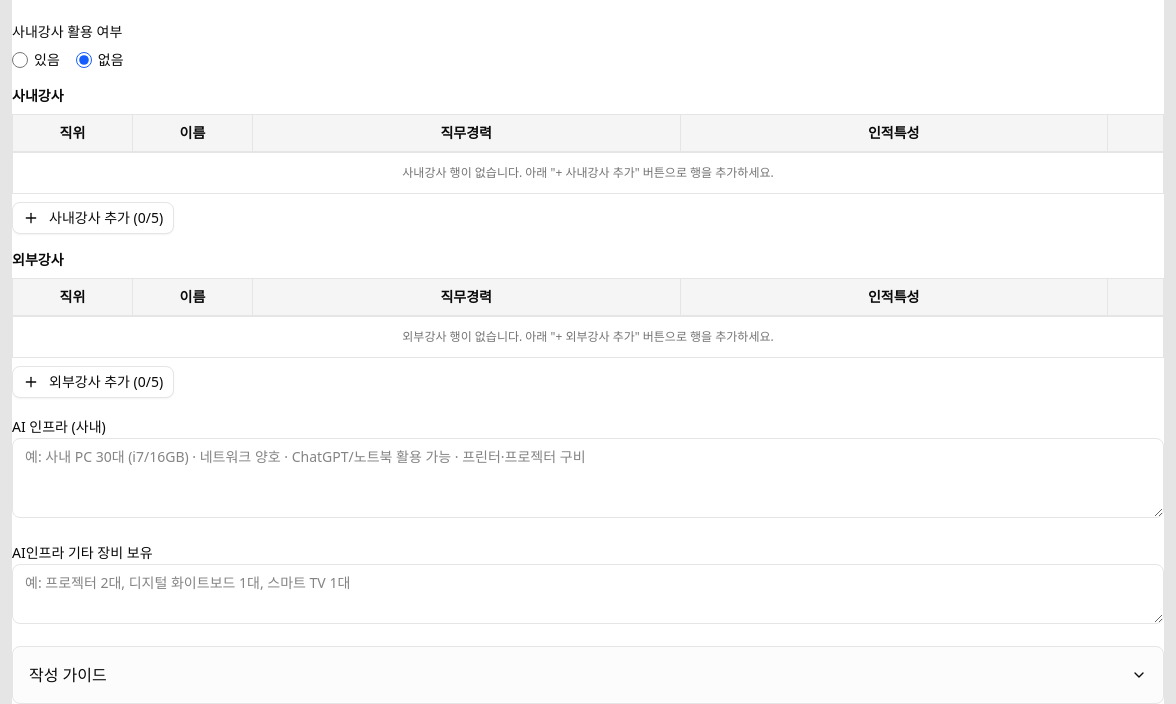
Scenario: StepTrainingEnv (R8 PBL-자체-02 — 12×7 정형 표 6 영역) › 작성 가이드에 정본 원문(번호·☞)을 그대로 표시한다
(page scrolled)
Click the button "작성 가이드" at (68, 675), box [29, 647, 1147, 703]
(page scrolled)
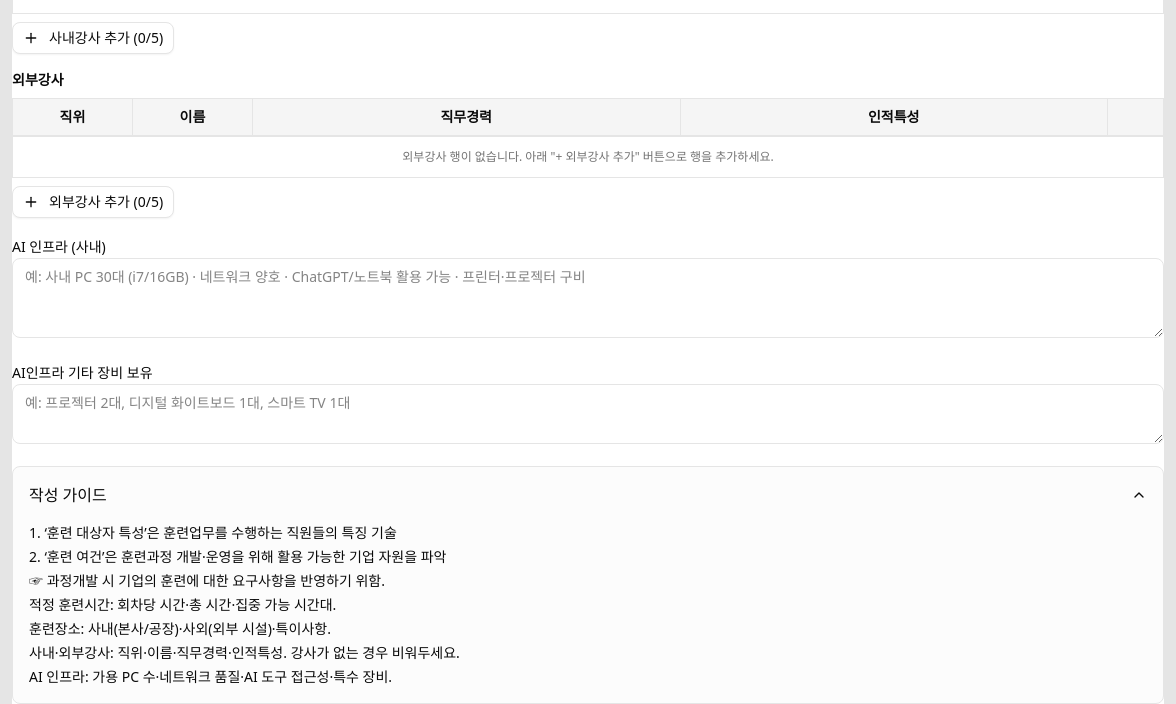
Expected: the list item "1. ‘훈련 대상자 특성’은 훈련업무를 수행하는 직원들의 특징 기술" is shown, [29, 523, 397, 542]
Expected: the list item "☞ 과정개발 시 기업의 훈련에 대한 요구사항을 반영하기 위함." is shown, [29, 571, 385, 590]
